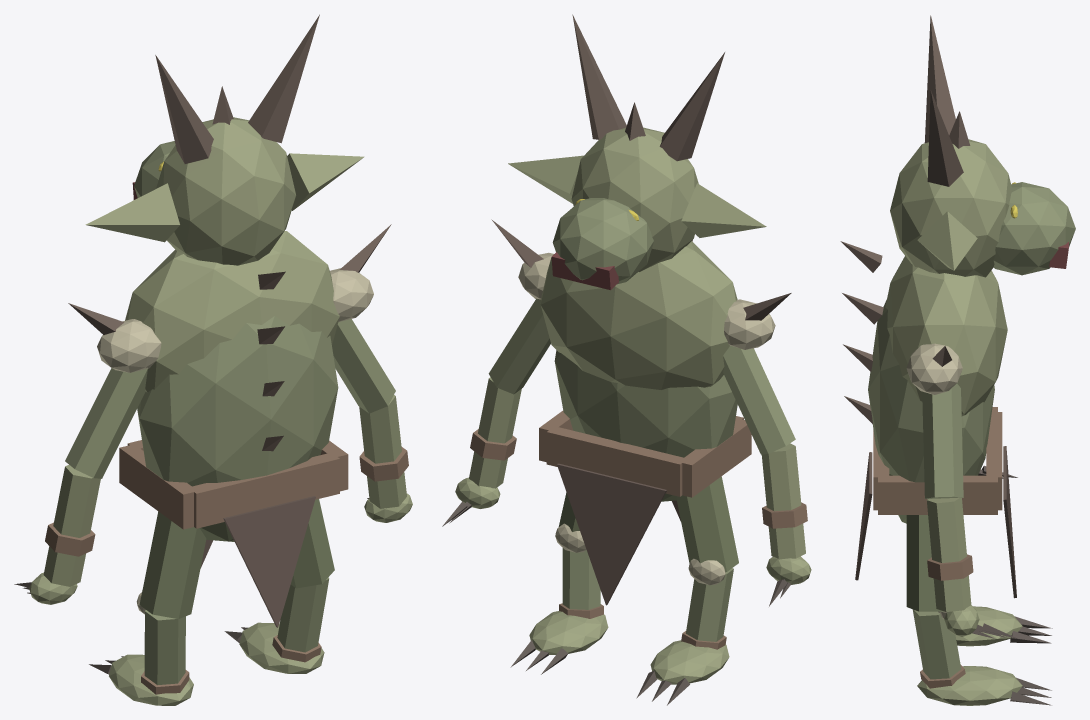
The model's file is biped_tier_3_spine_hunter.glb.
3 views of the same model, side by side, from view 1: azimuth 30°, elevation 25°; view 2: azimuth 150°, elevation 25°; view 3: azimuth 270°, elevation 25° (orthographic). The views are drawn at different scales.
Visible parts, largest first — view 1: torso, chest, head, back_loincloth, belt_back, thigh_L, upper_arm_L, forearm_L, upper_arm_R, belt_L, forearm_R, ear_L (+16 smaller); view 2: chest, torso, head, front_loincloth, snout, belt_front, upper_arm_L, thigh_L, forearm_L, upper_arm_R, forearm_R, belt_L (+19 smaller); view 3: chest, head, torso, snout, upper_arm_R, forearm_R, belt_R, foot_R, thigh_R, shin_R, shoulder_bone_plate_R, horn_R (+13 smaller).
Part boxes in pixels (<box>): torso: <box>137,316,338,486</box>; chest: <box>125,231,339,392</box>; head: <box>156,117,295,265</box>; back_loincloth: <box>223,496,315,627</box>; belt_back: <box>189,452,339,528</box>; thigh_L: <box>139,511,206,618</box>; upper_arm_L: <box>65,368,147,478</box>; forearm_L: <box>43,465,100,586</box>; upper_arm_R: <box>332,319,395,413</box>; belt_L: <box>119,445,193,529</box>; forearm_R: <box>359,395,406,508</box>; ear_L: <box>85,183,179,242</box>; chest: <box>540,241,737,389</box>; torso: <box>554,350,737,457</box>; head: <box>571,127,698,271</box>; front_loincloth: <box>557,463,667,605</box>; snout: <box>552,198,653,284</box>; belt_front: <box>546,427,687,496</box>; upper_arm_L: <box>723,345,795,454</box>; thigh_L: <box>676,476,738,572</box>; forearm_L: <box>761,443,805,559</box>; upper_arm_R: <box>488,298,550,394</box>; forearm_R: <box>469,377,521,488</box>; belt_L: <box>682,419,751,497</box>; chest: <box>885,256,1007,416</box>; head: <box>890,139,1012,277</box>; torso: <box>868,299,994,482</box>; snout: <box>993,182,1075,275</box>; upper_arm_R: <box>922,383,963,498</box>; forearm_R: <box>926,497,971,611</box>; belt_R: <box>878,475,997,514</box>; foot_R: <box>917,666,1022,705</box>; thigh_R: <box>906,515,943,611</box>; shin_R: <box>912,609,961,679</box>; shoulder_bone_plate_R: <box>906,343,962,394</box>; horn_R: <box>927,90,963,186</box>.
Size of the model in its own units: 1.28 by 2.13 by 0.7356.
